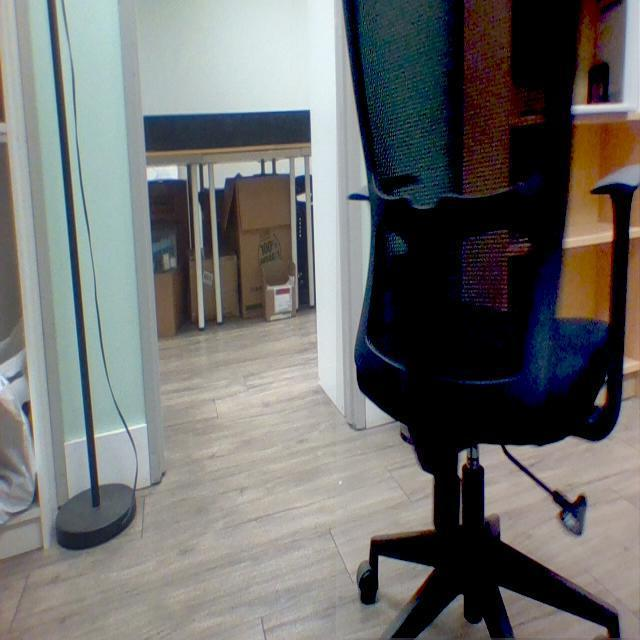chair: (339, 0, 640, 640)
